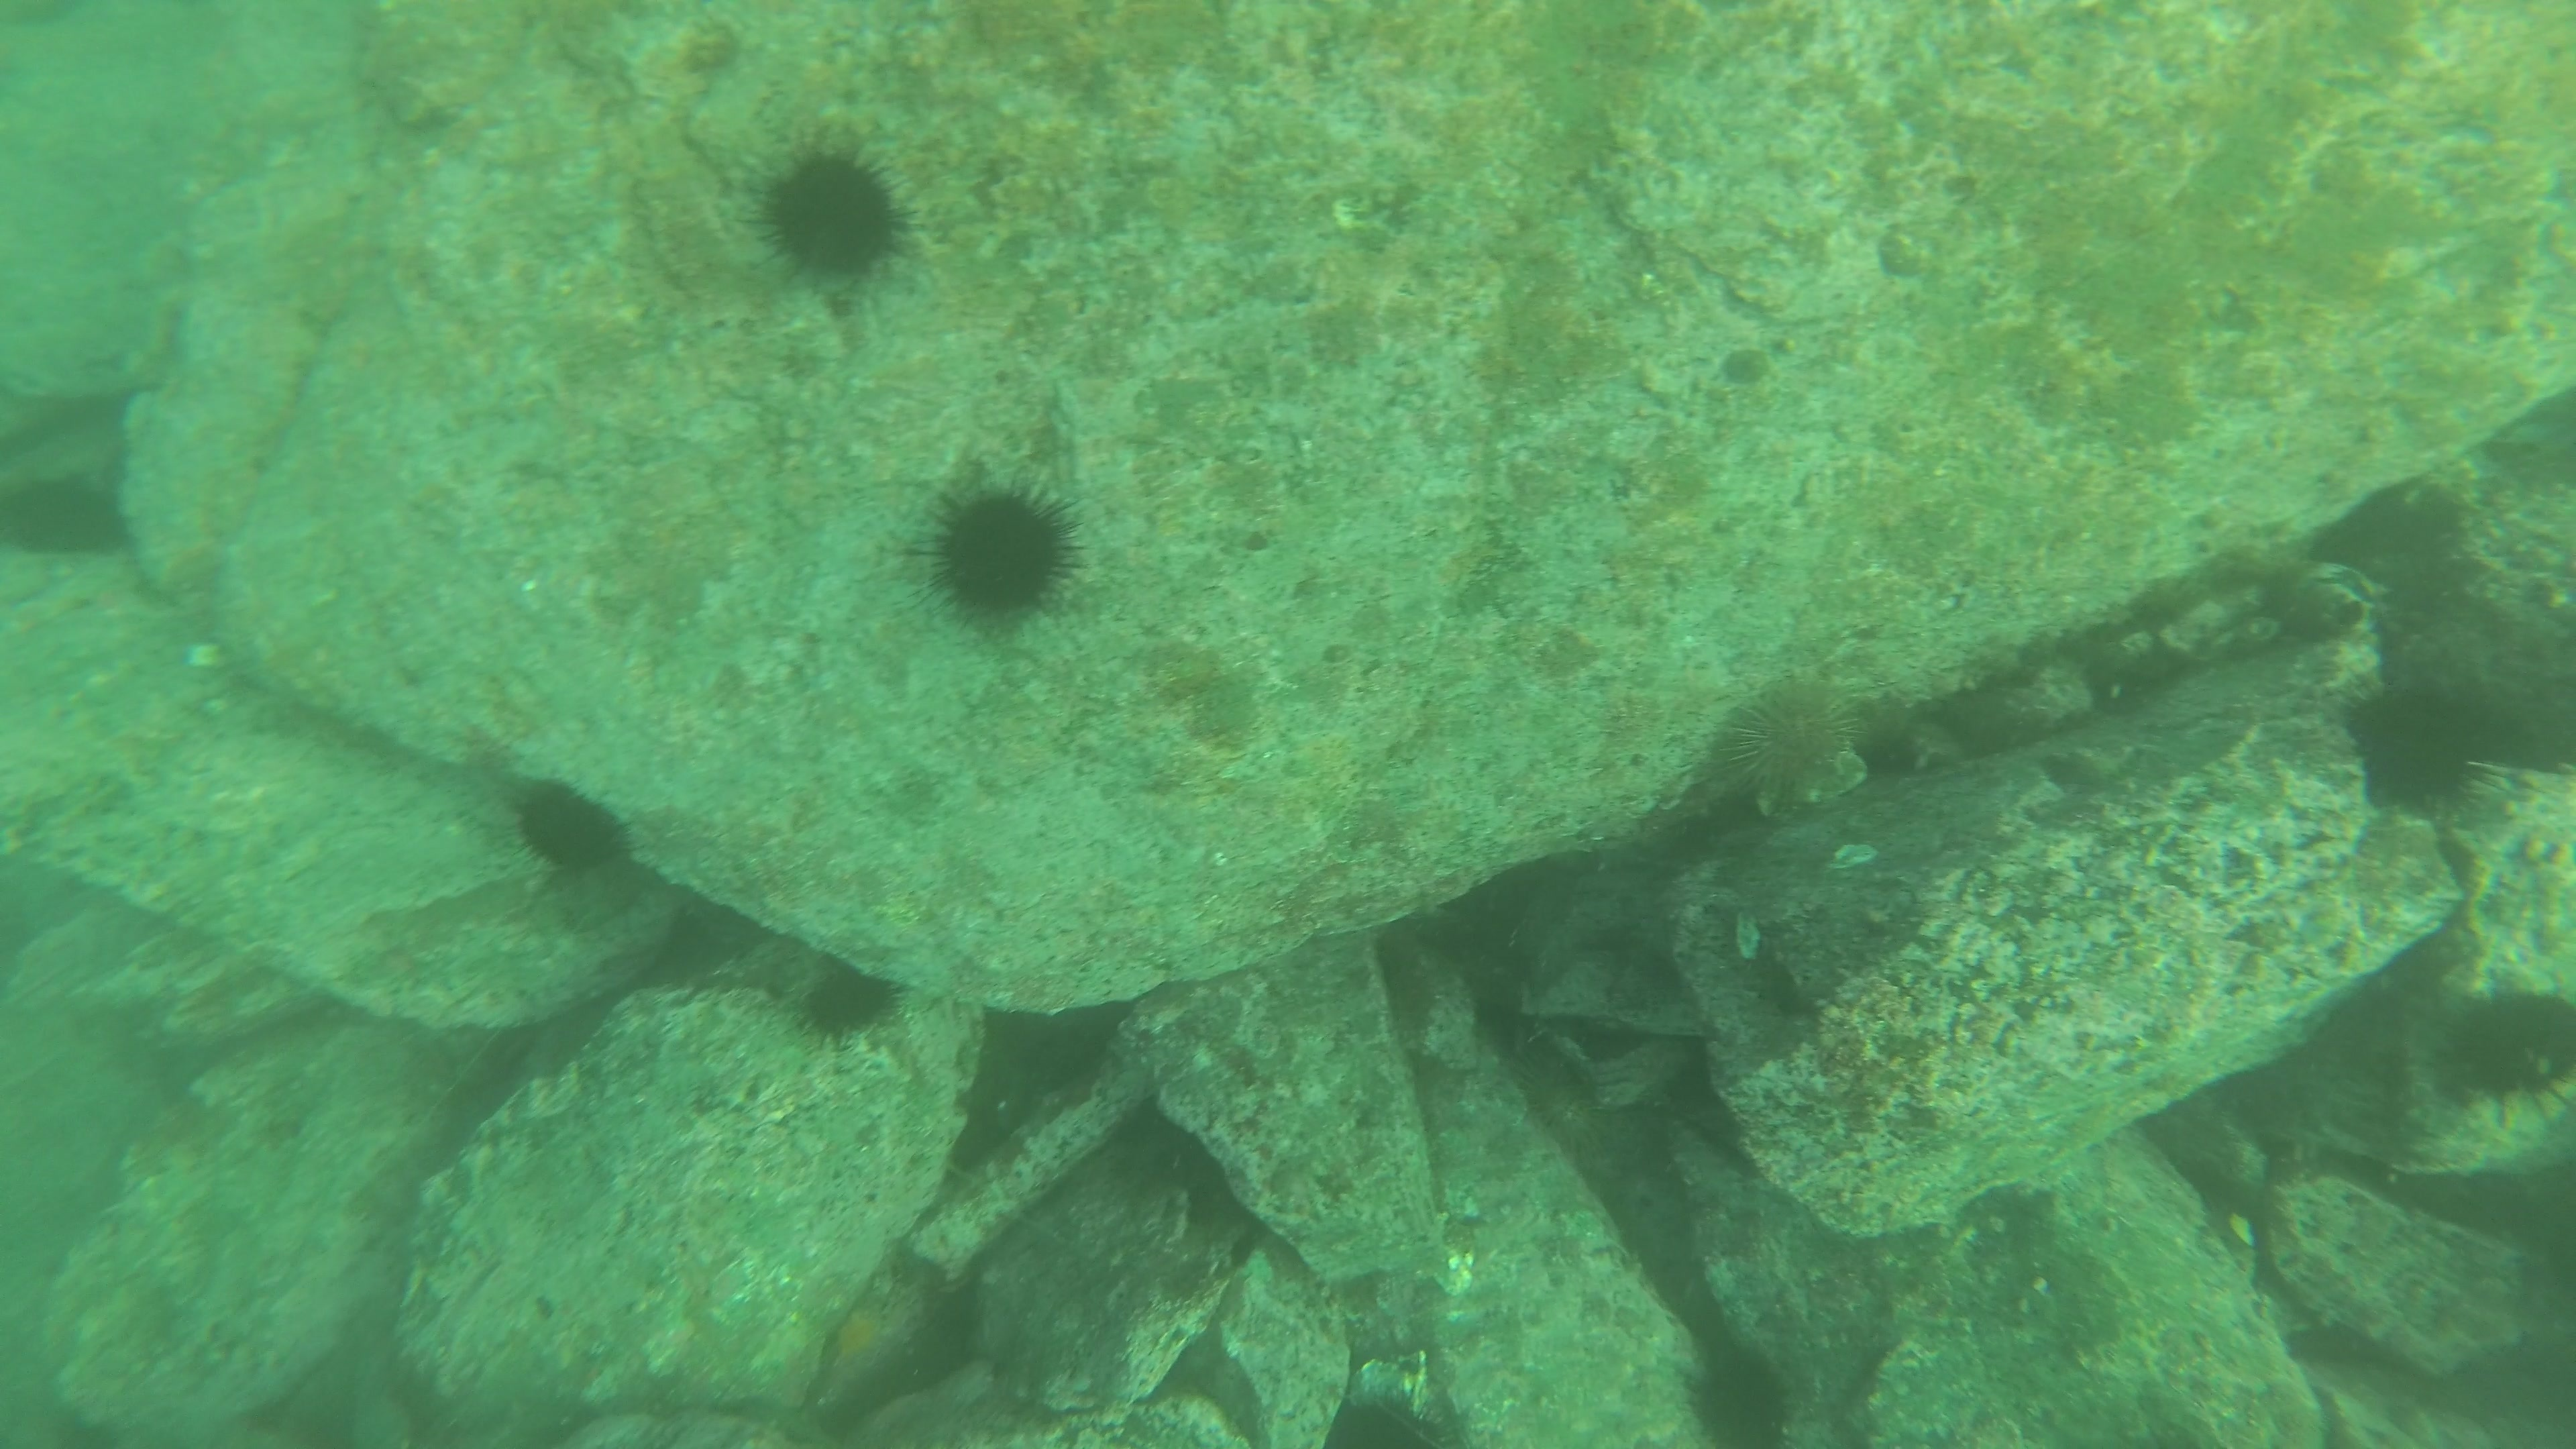echinus: (915, 472, 1086, 630), (748, 136, 915, 290), (2337, 672, 2507, 821), (1707, 672, 1870, 819), (2433, 977, 2576, 1113), (502, 771, 633, 883), (2, 464, 131, 566), (1681, 1341, 1801, 1445), (782, 950, 906, 1046)
starfish: (801, 1276, 927, 1412)
